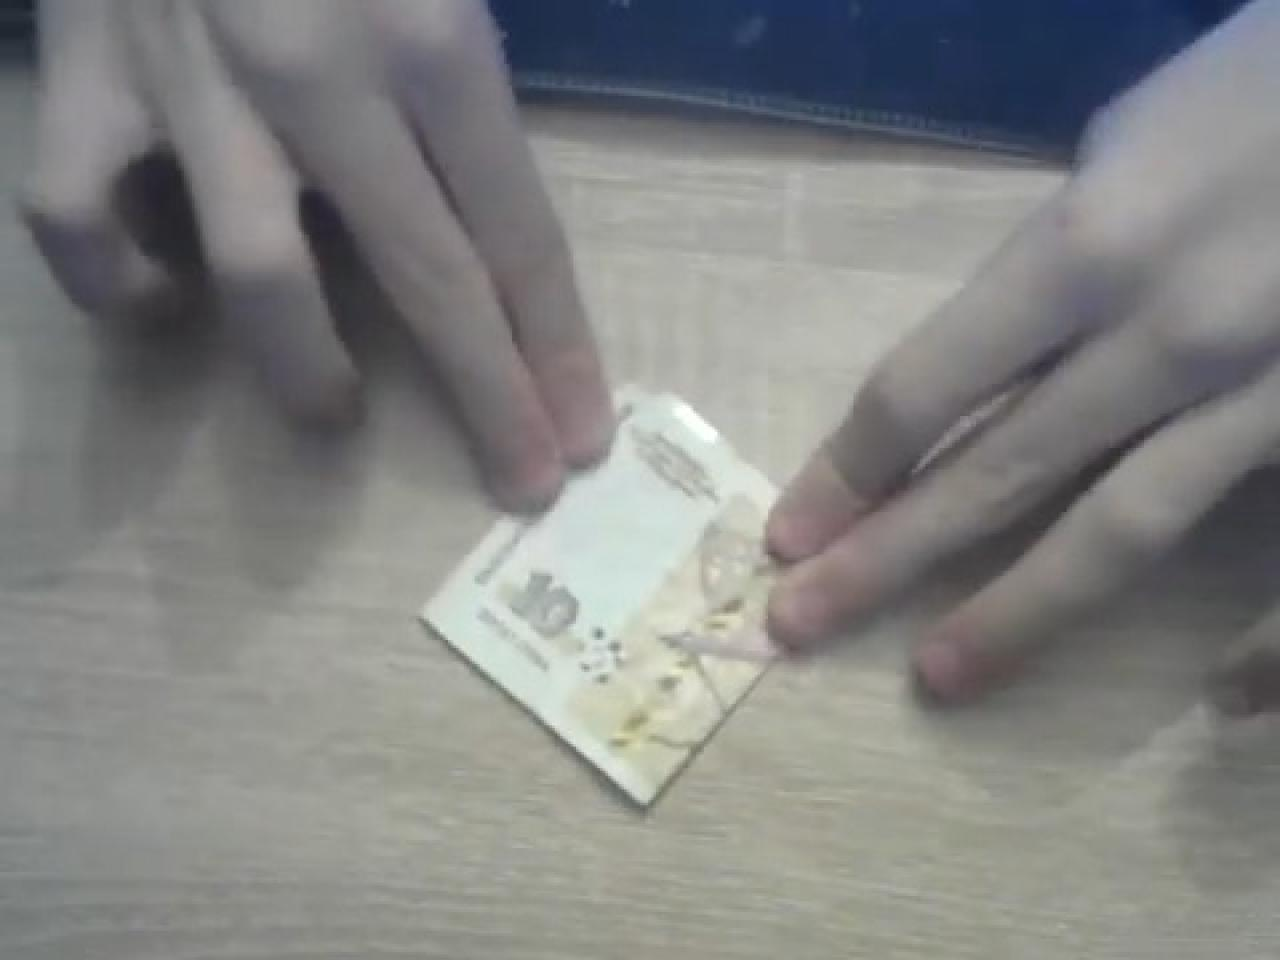10leva: (416, 392, 779, 813)
